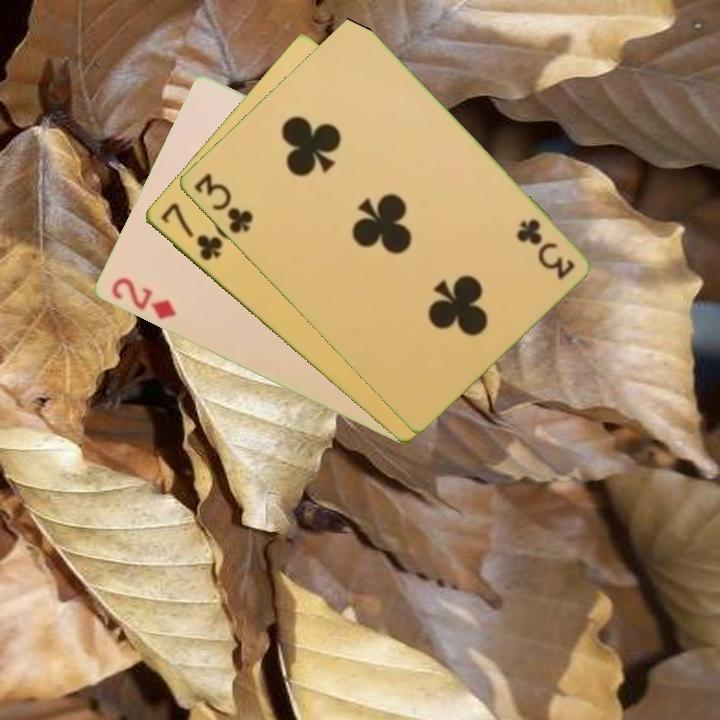2d: (107, 273, 178, 323)
3c: (190, 169, 256, 237), (512, 215, 578, 282)
7c: (156, 199, 226, 264)
